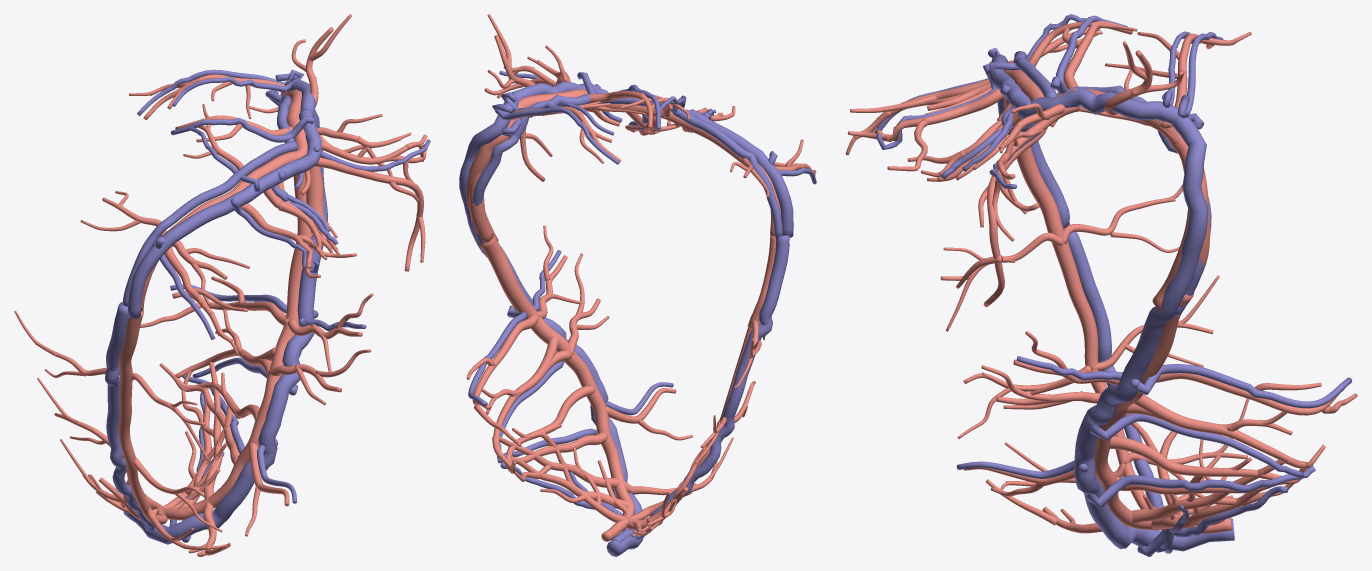
Rendered from vessels_43.glb.
3 views of the same model, side by side, from view 1: azimuth 30°, elevation 25°; view 2: azimuth 150°, elevation 25°; view 3: azimuth 270°, elevation 25° (orthographic). The views are drawn at different scales.
Parts seen in each view (by area): view 1: Renderer Node; view 2: Renderer Node; view 3: Renderer Node.
Boxes of the visible parts, <box> form: Renderer Node: <box>14,14,430,556</box>; Renderer Node: <box>459,14,816,556</box>; Renderer Node: <box>845,14,1357,556</box>.
Bounding box in the file's own units: 87.18 × 120 × 90.98.
